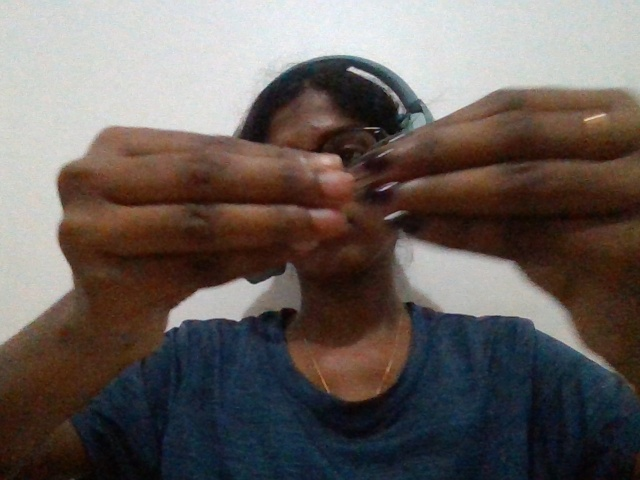More: (45, 70, 640, 379)
